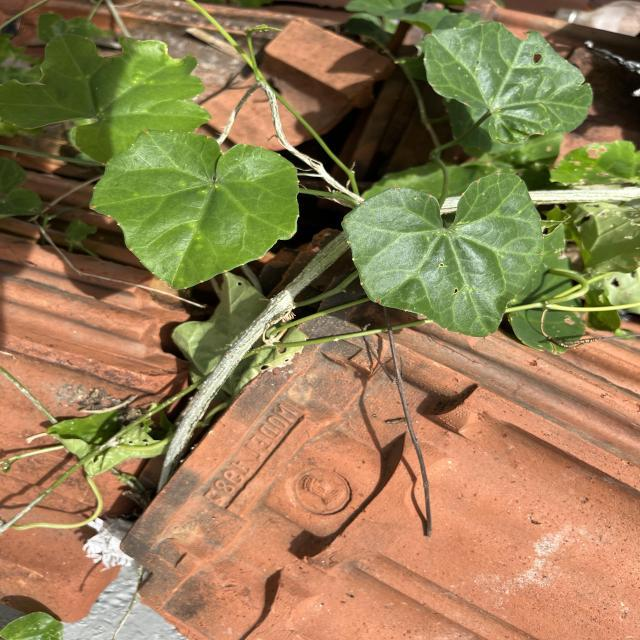Coccinia grandis: (86, 128, 302, 292), (339, 172, 547, 339)
